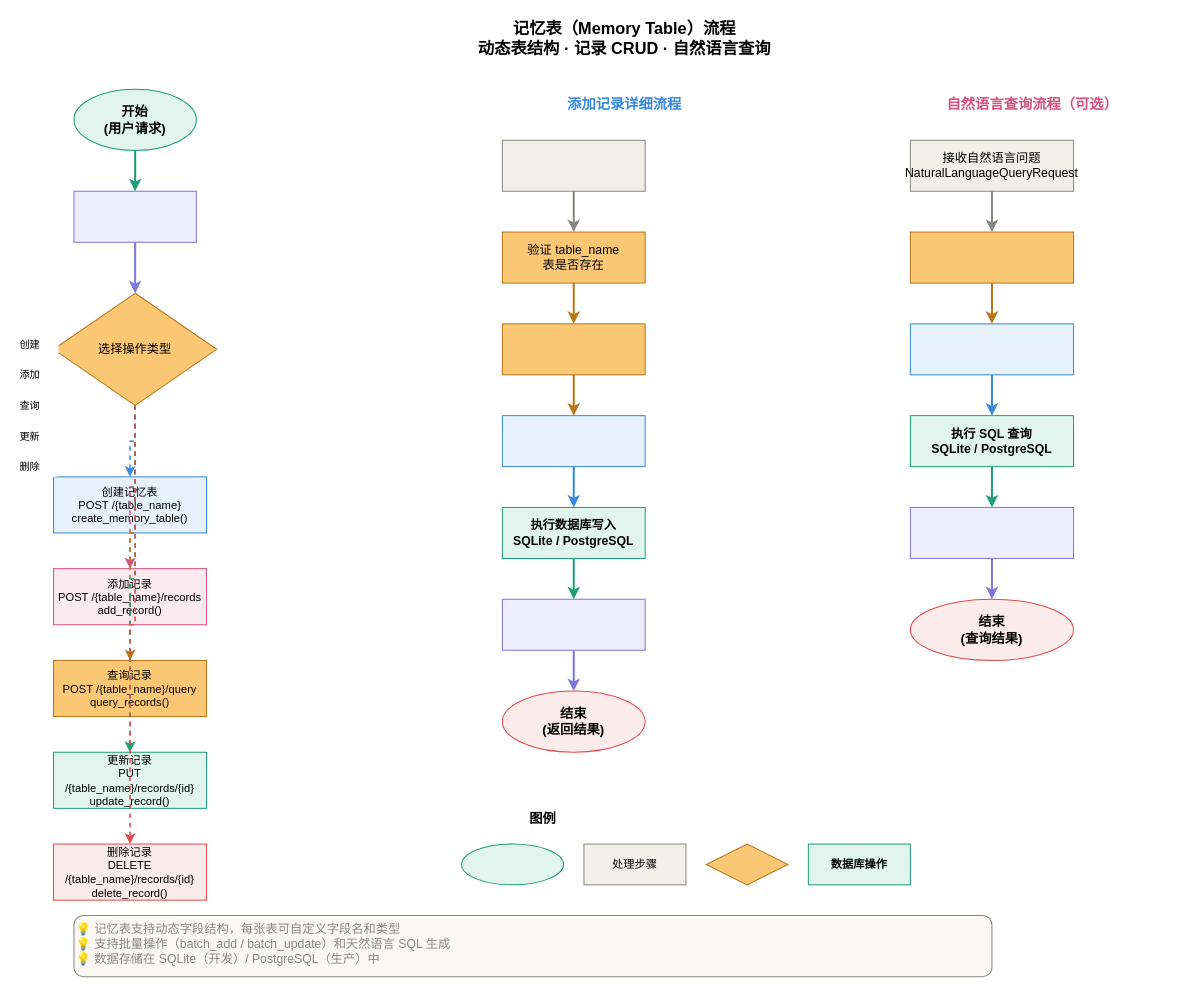
Image size: 1203x995. Some labels were removed from this diagram. Here are the shapes that lost their labels. From the top down, the box of each, then its label:
(501, 139, 645, 191): 接收请求 AddRecordRequest
(73, 190, 196, 242): JWT 认证 get_current_user()
(909, 231, 1074, 283): 调用 LLM 解析 natural_language_query()
(501, 323, 645, 375): 验证字段合法性 (字段名、类型)
(909, 323, 1074, 375): 生成 SQL 查询 (可人工确认)
(501, 415, 645, 467): 构建 INSERT SQL 参数化查询
(909, 506, 1074, 558): 返回查询结果 (JSON / Markdown)
(501, 598, 645, 650): 返回新记录 ID JSON 响应
(461, 843, 564, 885): 开始/结束
(705, 843, 788, 885): 判断/选择
